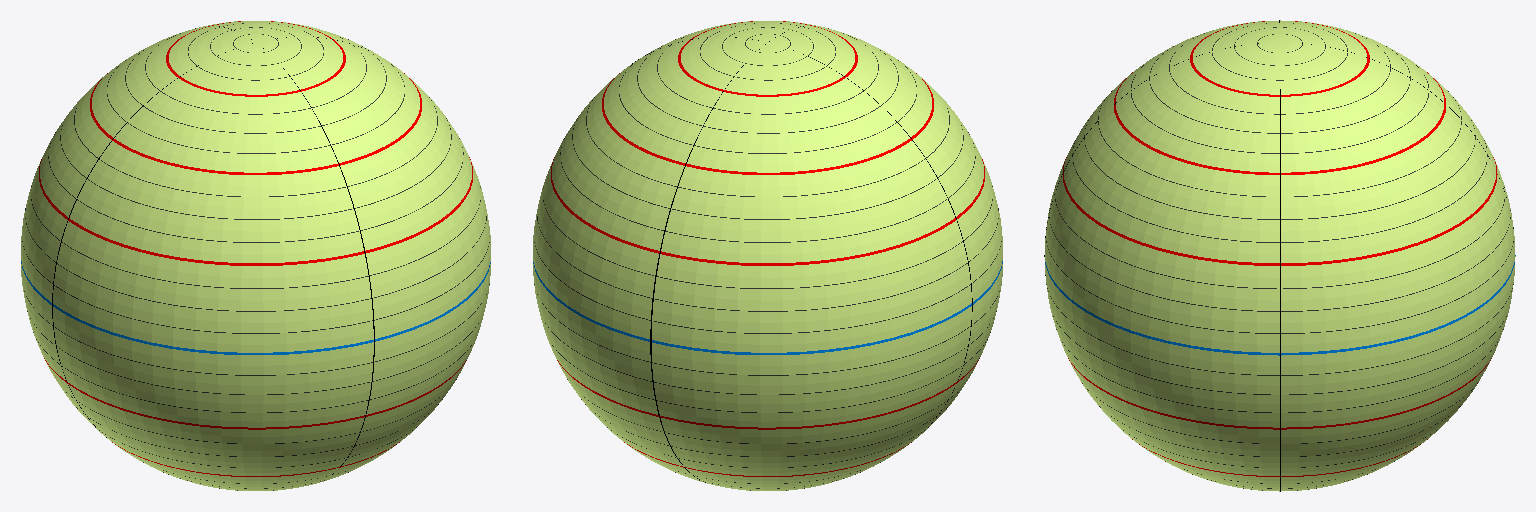
3 views of the same model, side by side, from view 1: azimuth 30°, elevation 25°; view 2: azimuth 150°, elevation 25°; view 3: azimuth 270°, elevation 25° (orthographic).
Parts seen in each view (by area): view 1: Plane; view 2: Plane; view 3: Plane.
Part boxes in pixels (left/top/right/bottom): Plane: left=21, top=21, right=490, bottom=490; Plane: left=533, top=21, right=1002, bottom=490; Plane: left=1044, top=20, right=1515, bottom=491.
Size of the model in its own units: 2 by 2 by 2.
1 materials, 1 textured.